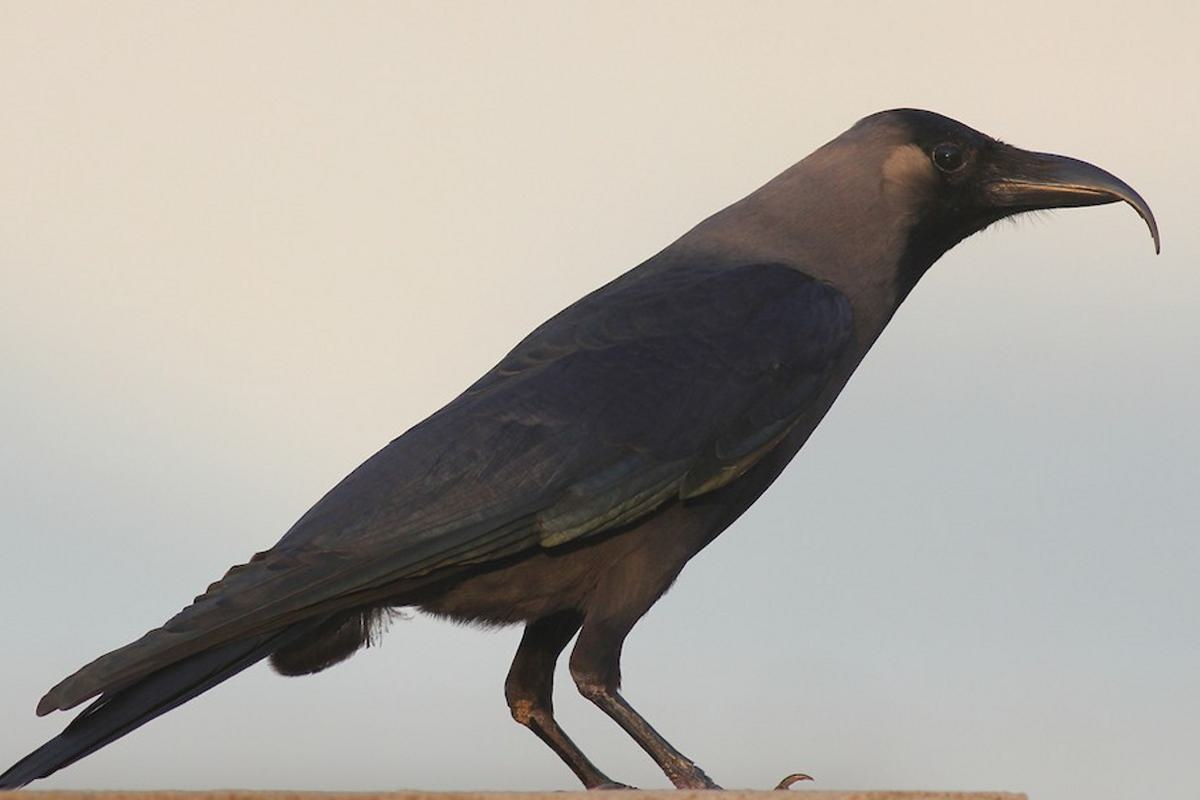crow: (6, 89, 1175, 791)
